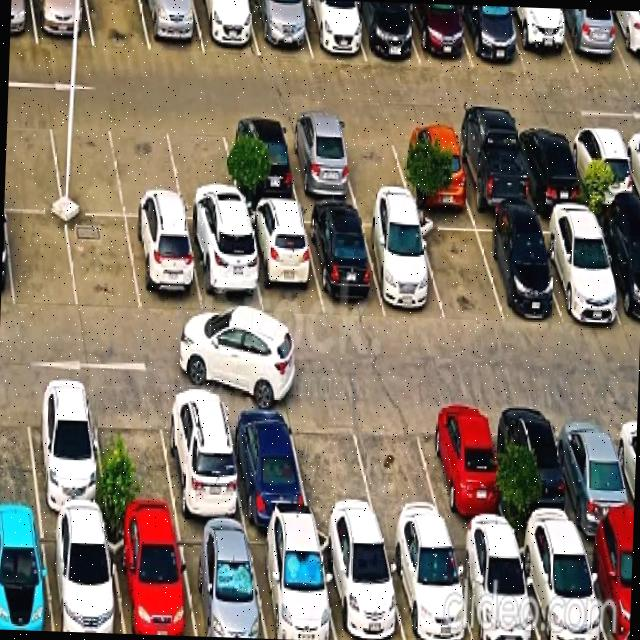empty: (350, 399, 447, 531), (287, 398, 379, 529), (91, 387, 178, 522), (416, 215, 503, 321), (48, 112, 124, 215), (165, 117, 241, 220), (110, 115, 183, 217), (66, 214, 140, 313), (5, 211, 77, 308), (335, 121, 411, 202), (4, 110, 62, 210), (0, 383, 39, 515), (86, 0, 149, 50)
occupied: (419, 399, 510, 534), (158, 389, 245, 525), (223, 393, 310, 524), (25, 383, 107, 519), (496, 399, 579, 533), (552, 402, 634, 534), (176, 525, 266, 638), (107, 523, 195, 636), (316, 529, 405, 640), (247, 528, 335, 640), (534, 212, 623, 322), (382, 533, 473, 640), (515, 534, 606, 640), (449, 533, 539, 640), (41, 519, 123, 633), (472, 216, 561, 320), (359, 211, 444, 319), (243, 208, 323, 316), (302, 209, 384, 314), (126, 217, 203, 313), (186, 221, 262, 315), (450, 124, 531, 210), (222, 119, 299, 203), (394, 123, 471, 206), (282, 120, 357, 202), (513, 124, 586, 206), (567, 124, 639, 207), (0, 519, 52, 631), (580, 533, 633, 640), (592, 212, 640, 329), (554, 8, 629, 75), (505, 6, 578, 74), (457, 5, 525, 71), (350, 1, 419, 64), (406, 3, 472, 67), (298, 0, 365, 61), (192, 0, 259, 55), (248, 0, 311, 56), (140, 0, 203, 54), (31, 0, 93, 46), (606, 10, 640, 75), (9, 0, 37, 43)
